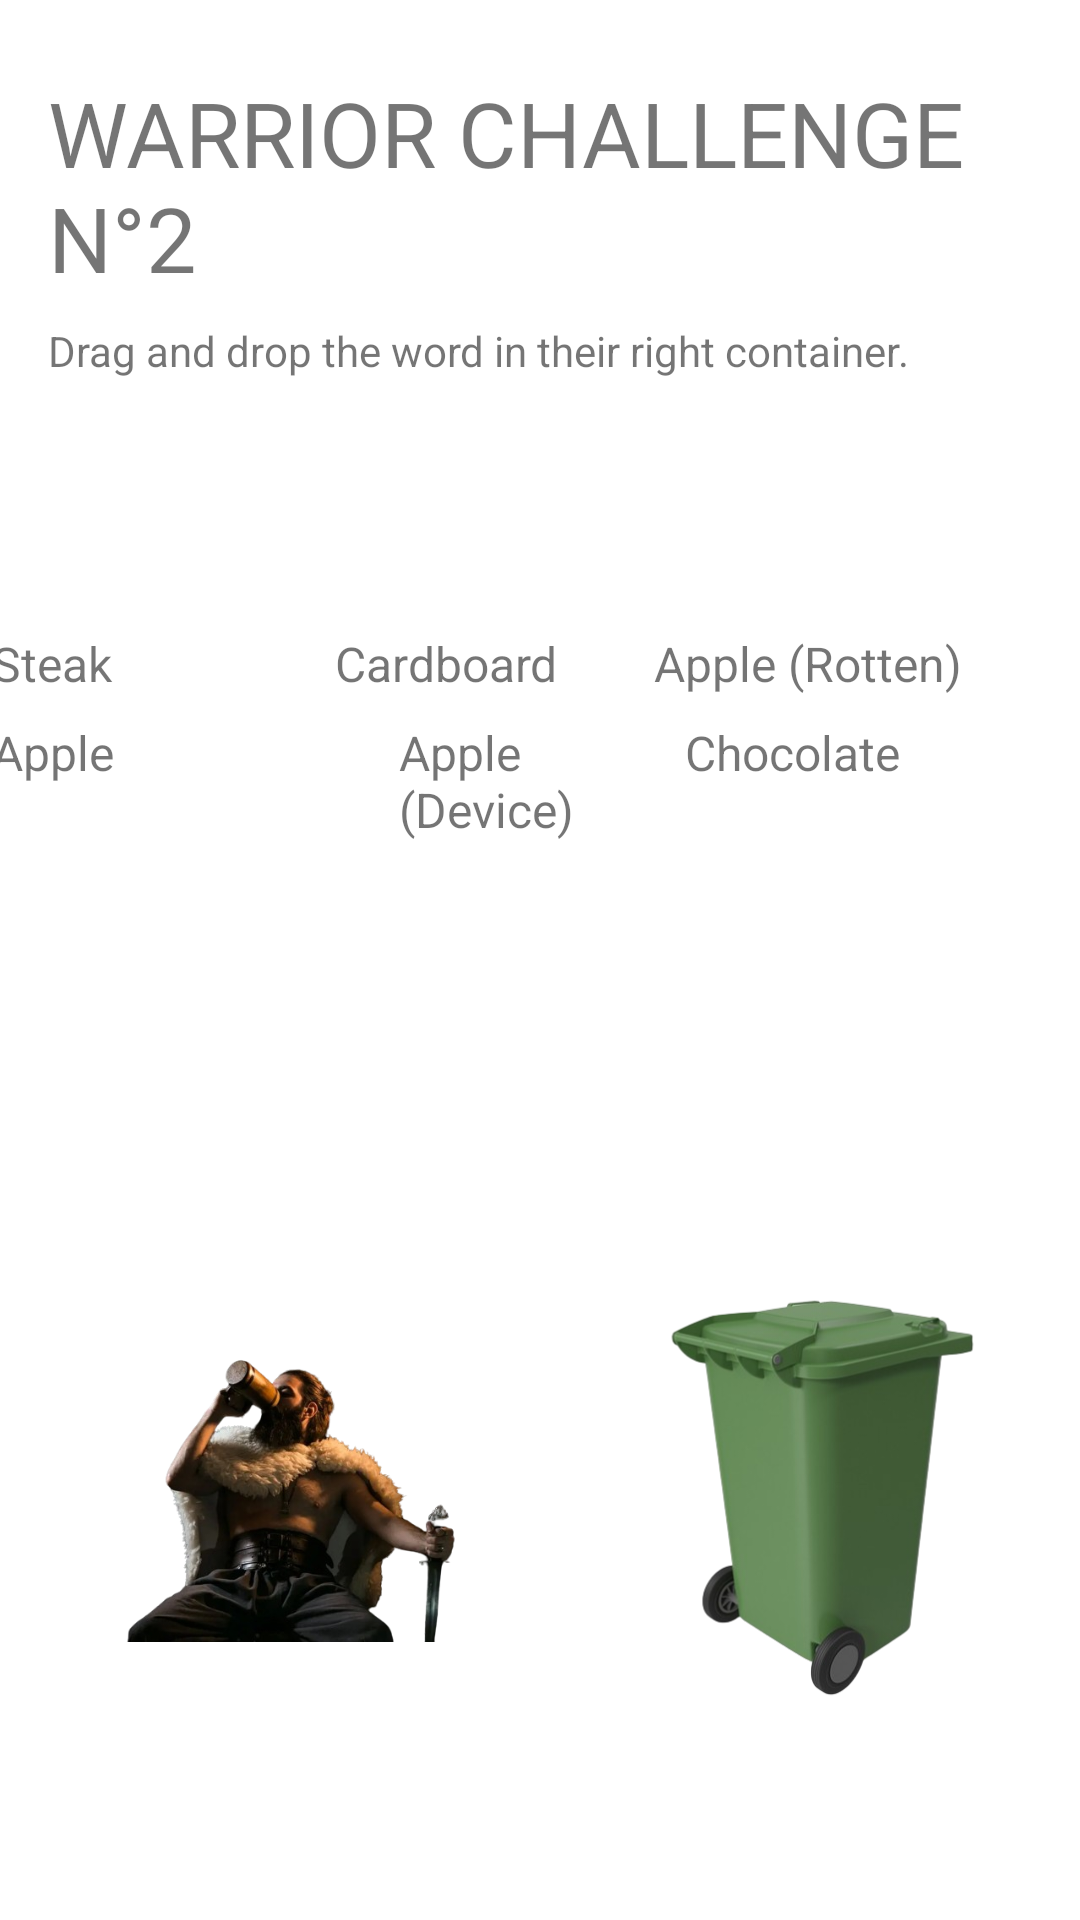

Screen size 1080 x 1920. Icon name, then its box in pixels as (x1, y1, x2, y2):
Warrior: (127, 1360, 455, 1642)
